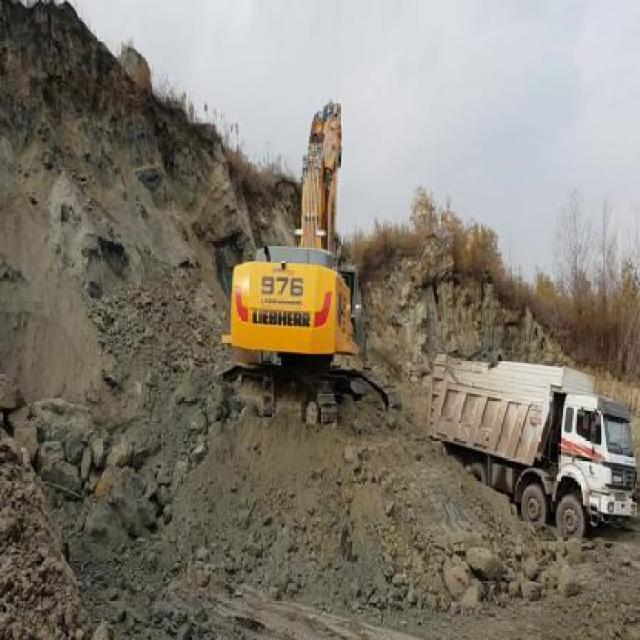Dump Truck: (426, 346, 639, 540)
Excavator: (215, 96, 402, 427)
